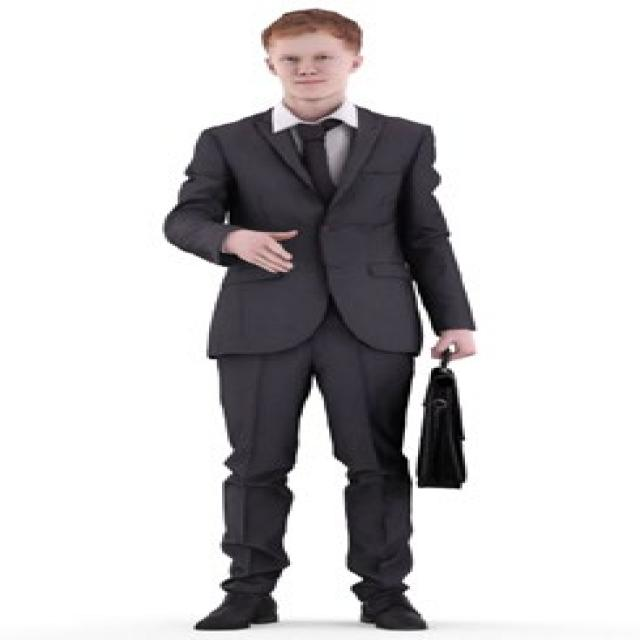standing: (160, 6, 488, 636)
